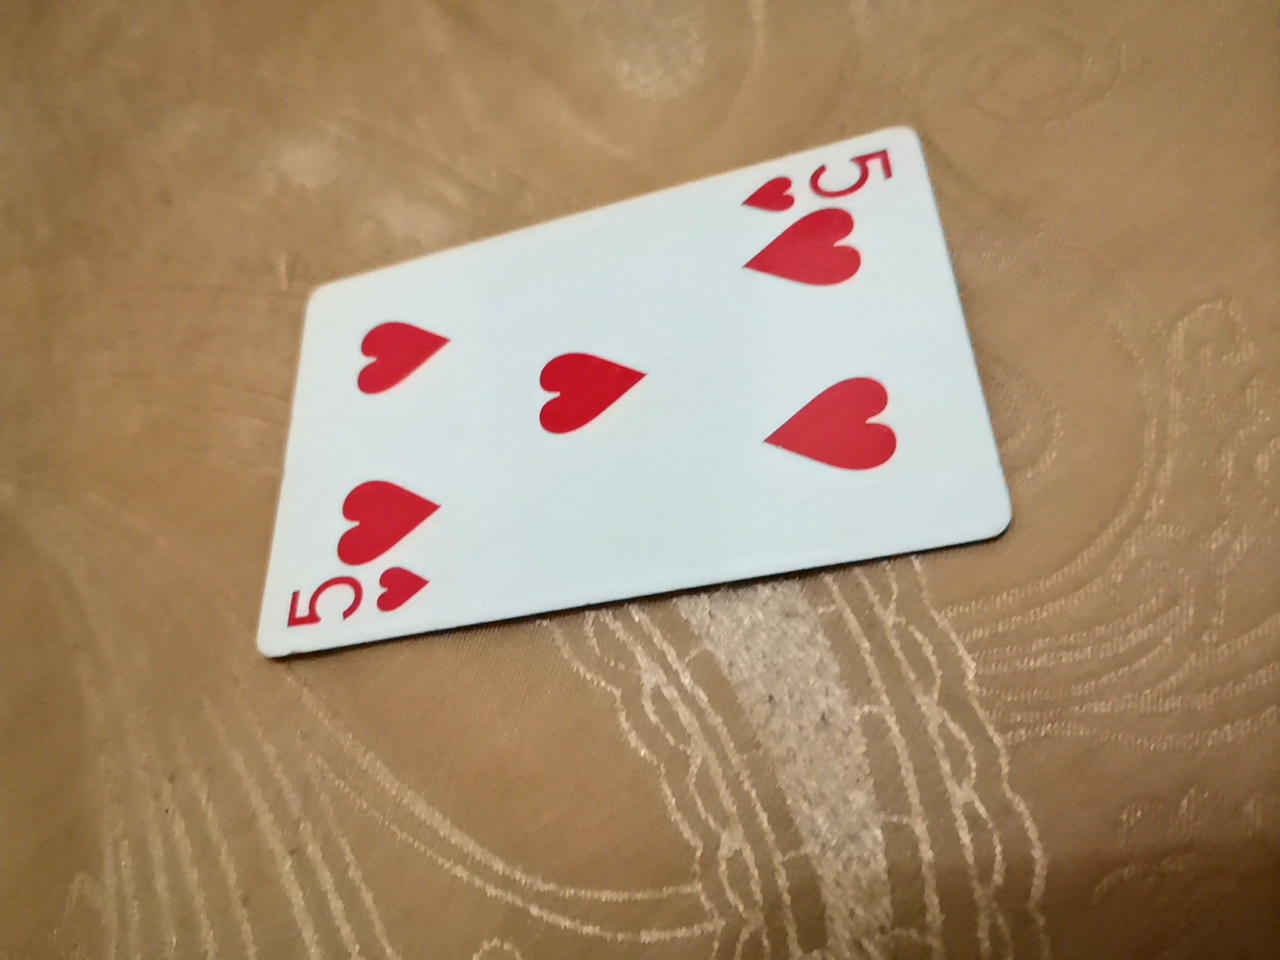hx 5: (199, 170, 963, 719)
